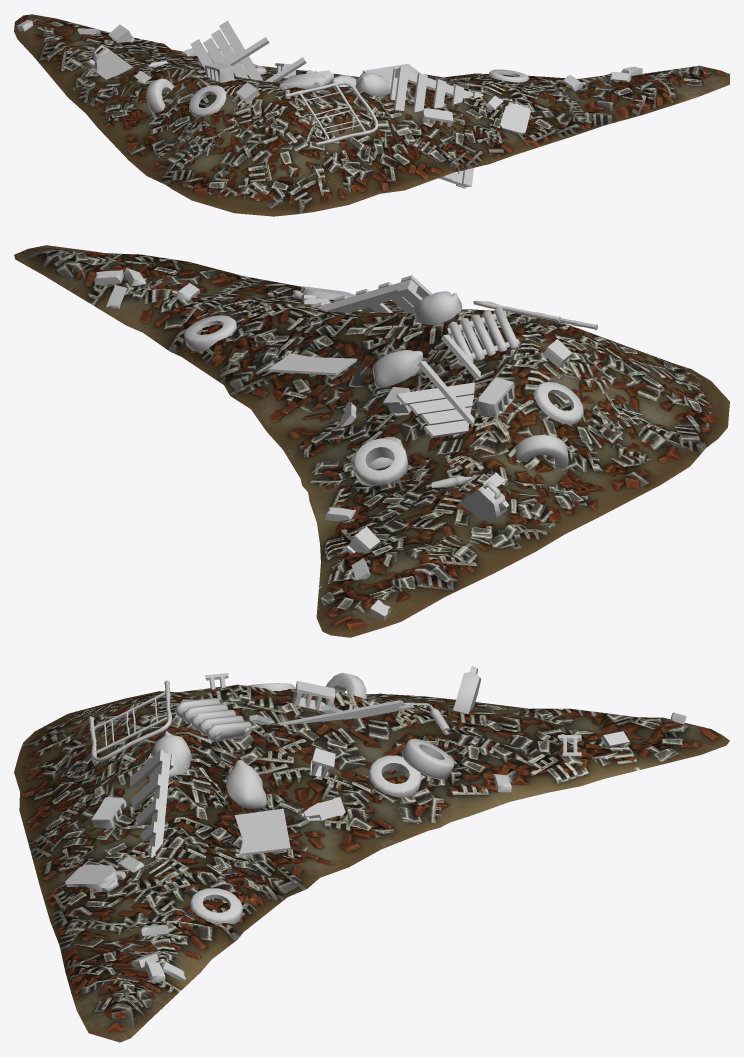
Rendered from Haufen1.fbx.
3 renders of one model, top to bottom at view 1: azimuth 30°, elevation 25°; view 2: azimuth 150°, elevation 25°; view 3: azimuth 270°, elevation 25°, orthographic. The views are drawn at different scales.
Visible parts, largest first — view 1: Haufen2_low.003; view 2: Haufen2_low.003; view 3: Haufen2_low.003.
Boxes of the visible parts, box(x1,y1,x2,y2) form: Haufen2_low.003: box(14, 14, 729, 216); Haufen2_low.003: box(14, 245, 729, 637); Haufen2_low.003: box(14, 666, 729, 1042).
Bounding box in the file's own units: 1389 × 280 × 1217.
